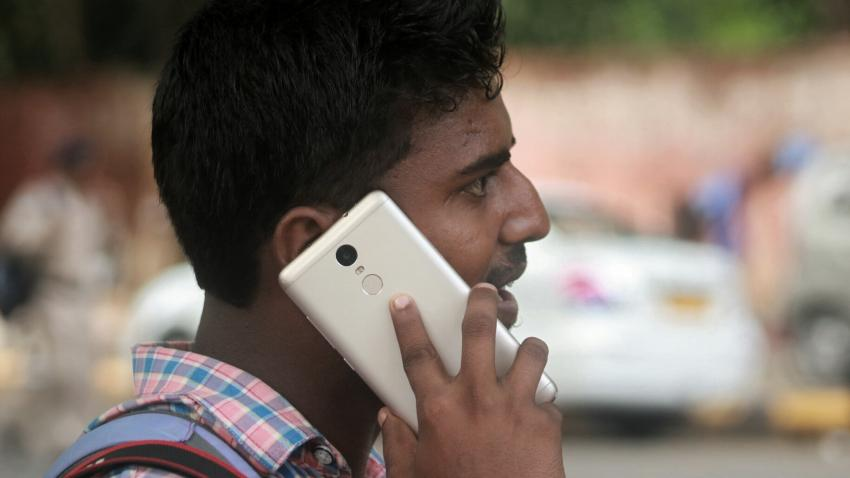phone: (289, 191, 560, 442)
talk: (275, 136, 571, 478)
